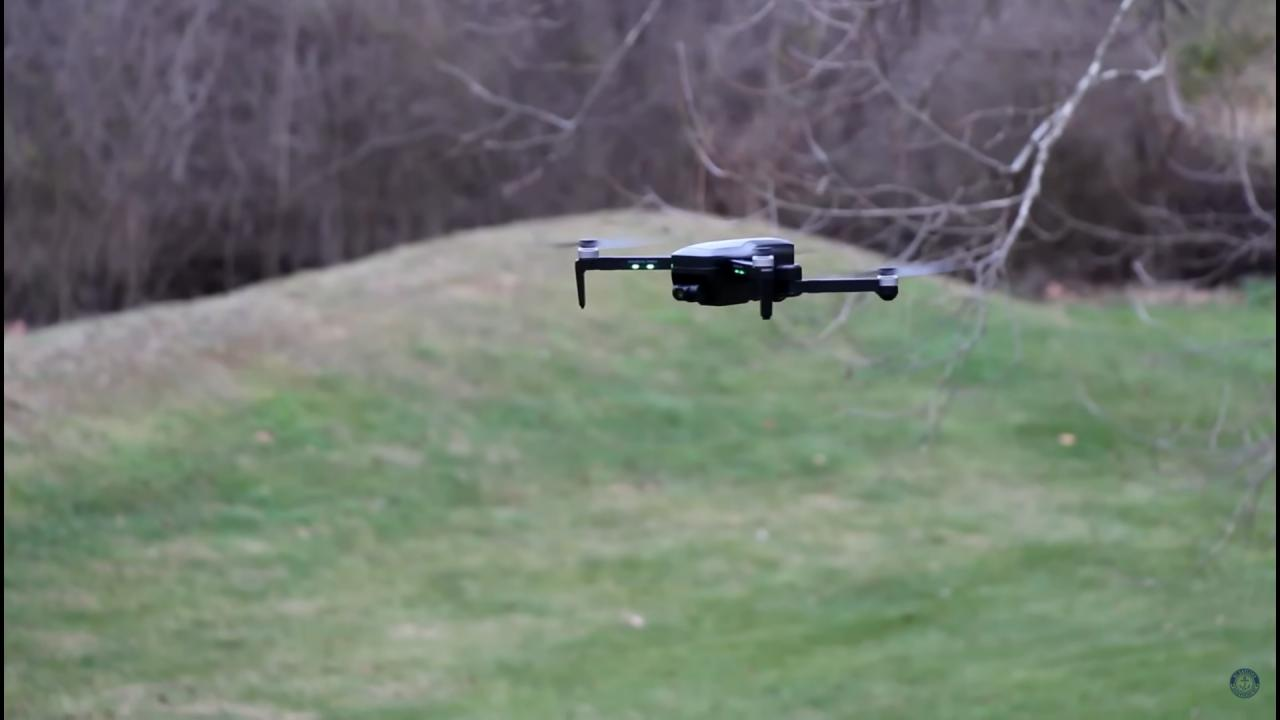Drone: (523, 224, 978, 330)
